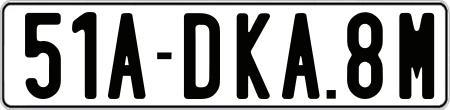1: (71, 11, 99, 98)
5: (24, 13, 61, 101)
8: (347, 10, 386, 103)
A: (282, 11, 324, 103), (105, 10, 147, 98)
D: (183, 11, 222, 102)
K: (235, 10, 273, 100)
M: (399, 12, 438, 101)
